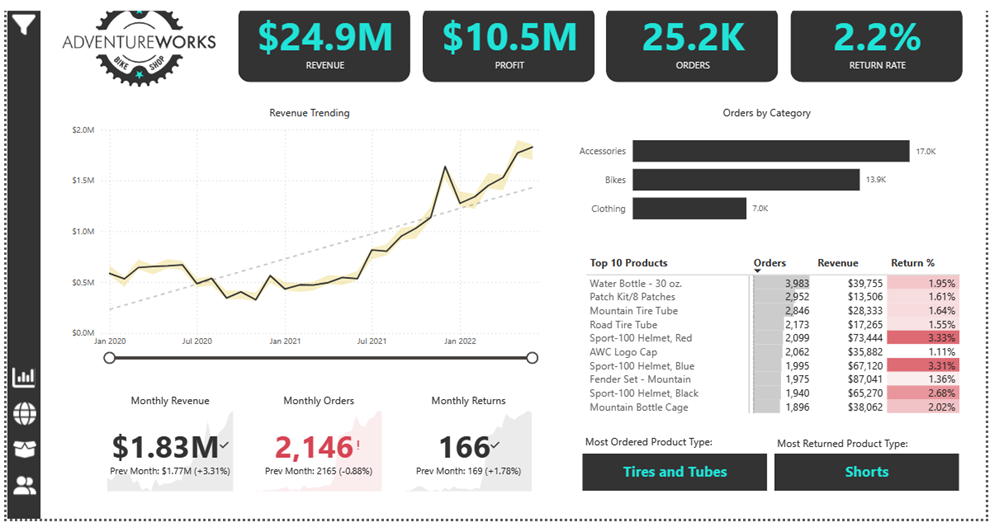

This screenshot's page, from the dashboard's own definition file:
{"tool":"powerbi","page":{"name":"Exec Dashboard","canvas":[1280,720],"ordinal":0},"visuals":[{"type":"card","fields":{"Values":["Measure Table.Total Revenue"]},"box":[288.1,17.8,256.2,150],"z":0,"group":"g2"},{"type":"image","title":"AW Logo","box":[45.6,26.6,256.2,141.2],"z":0},{"type":"shape","box":[303.1,47.8,225,100],"z":0,"group":"g1"},{"type":"actionButton","box":[2.5,516.7,45.6,37.8],"z":0,"group":"g3"},{"type":"card","fields":{"Values":["Measure Table.Total Profit"]},"box":[528.9,17.8,256.2,150],"z":1000,"group":"g2"},{"type":"shape","box":[543.9,47.8,225,100],"z":1000,"group":"g1"},{"type":"actionButton","box":[3.3,563.4,45.6,37.8],"z":1000,"group":"g3"},{"type":"card","fields":{"Values":["Measure Table.Total Orders"]},"box":[769.8,17.8,256.2,150],"z":2000,"group":"g2"},{"type":"group","id":"g1","title":"KPI Backgrounds","box":[303.1,47.8,947.5,100],"z":2000},{"type":"shape","box":[784.8,47.8,225,100],"z":2000,"group":"g1"},{"type":"actionButton","box":[3.3,611.1,45.6,37.8],"z":2000,"group":"g3"},{"type":"shape","title":"Left Nav Background","box":[0,0,45,720],"z":3000},{"type":"card","fields":{"Values":["Measure Table.Return Rate"]},"box":[1010.6,17.8,256.2,150],"z":3000,"group":"g2"},{"type":"shape","box":[1025.6,47.8,225,100],"z":3000,"group":"g1"},{"type":"actionButton","box":[3.3,657.8,45.6,37.8],"z":3000,"group":"g3"},{"type":"group","id":"g2","title":"KPI Values","box":[288.1,17.8,978.8,150],"z":4000},{"type":"lineChart","title":"Revenue Trending","fields":{"Y":["Measure Table.Total Revenue"],"Category":["Calendar Lookup.Start of Month"]},"box":[78.9,177.7,633.8,342.5],"z":5000},{"type":"kpi","title":"Monthly Revenue","fields":{"Indicator":["Measure Table.Total Revenue"],"TrendLine":["Calendar Lookup.Start of Month"],"Goal":["Measure Table.Previous Month Revenue"]},"box":[126.2,555,175,133.8],"z":6000},{"type":"kpi","title":"Monthly Orders","fields":{"TrendLine":["Calendar Lookup.Start of Month"],"Indicator":["Measure Table.Total Orders"],"Goal":["Measure Table.Previous Month Orders"]},"box":[321.2,555,175,133.8],"z":7000},{"type":"kpi","title":"Monthly Returns","fields":{"TrendLine":["Calendar Lookup.Start of Month"],"Indicator":["Measure Table.Total Returns"],"Goal":["Measure Table.Previous Month Returns"]},"box":[516.2,555,175,133.8],"z":8000},{"type":"clusteredBarChart","title":"Orders by Category","fields":{"Category":["Product Categories Lookup.CategoryName"],"Y":["Measure Table.Total Orders"]},"box":[738.9,177.7,511.2,171.2],"z":9000},{"type":"pivotTable","fields":{"Rows":["Product Lookup.ProductName"],"Values":["Measure Table.Total Orders","Measure Table.Total Revenue","Measure Table.Return Rate"]},"box":[753.7,369.2,511.1,228.4],"z":10000},{"type":"card","fields":{"Values":["Min(Product Subcategories Lookup.SubcategoryName)"]},"box":[753.7,634.2,241.4,48.5],"z":11000},{"type":"textbox","box":[751.3,604.6,198.8,35.5],"z":12000},{"type":"card","fields":{"Values":["Min(Product Subcategories Lookup.SubcategoryName)"]},"box":[1004.1,634.2,241.4,48.5],"z":13000},{"type":"textbox","box":[1002.2,605.2,198.8,35.5],"z":14000},{"type":"actionButton","box":[3.3,5.6,35.6,35.6],"z":15000},{"type":"group","id":"g3","title":"Navigation Buttons","box":[2.5,516.7,46.4,178.9],"z":16000},{"type":"actionButton","box":[3.4,53.1,38.4,39.6],"z":17000}]}

Visuals, with their boxes on the page's 1280x720 design canvas (x1, y1, x2, y2). These are canvas units, not pixel positions in the 999x527 screenshot, which may show the page scaled, cropped or inside an application window:
card - Measure Table.Total Revenue: bbox=[288, 18, 544, 168]
"AW Logo" image: bbox=[46, 27, 302, 168]
shape: bbox=[303, 48, 528, 148]
actionButton: bbox=[2, 517, 48, 554]
card - Measure Table.Total Profit: bbox=[529, 18, 785, 168]
shape: bbox=[544, 48, 769, 148]
actionButton: bbox=[3, 563, 49, 601]
card - Measure Table.Total Orders: bbox=[770, 18, 1026, 168]
"KPI Backgrounds" group: bbox=[303, 48, 1251, 148]
shape: bbox=[785, 48, 1010, 148]
actionButton: bbox=[3, 611, 49, 649]
"Left Nav Background" shape: bbox=[0, 0, 45, 720]
card - Measure Table.Return Rate: bbox=[1011, 18, 1267, 168]
shape: bbox=[1026, 48, 1251, 148]
actionButton: bbox=[3, 658, 49, 696]
"KPI Values" group: bbox=[288, 18, 1267, 168]
"Revenue Trending" lineChart: bbox=[79, 178, 713, 520]
"Monthly Revenue" kpi: bbox=[126, 555, 301, 689]
"Monthly Orders" kpi: bbox=[321, 555, 496, 689]
"Monthly Returns" kpi: bbox=[516, 555, 691, 689]
"Orders by Category" clusteredBarChart: bbox=[739, 178, 1250, 349]
pivotTable - Product Lookup.ProductName x Measure Table.Total Orders: bbox=[754, 369, 1265, 598]
card - Min(Product Subcategories Lookup.SubcategoryName): bbox=[754, 634, 995, 683]
textbox: bbox=[751, 605, 950, 640]
card - Min(Product Subcategories Lookup.SubcategoryName): bbox=[1004, 634, 1246, 683]
textbox: bbox=[1002, 605, 1201, 641]
actionButton: bbox=[3, 6, 39, 41]
"Navigation Buttons" group: bbox=[2, 517, 49, 696]
actionButton: bbox=[3, 53, 42, 93]
